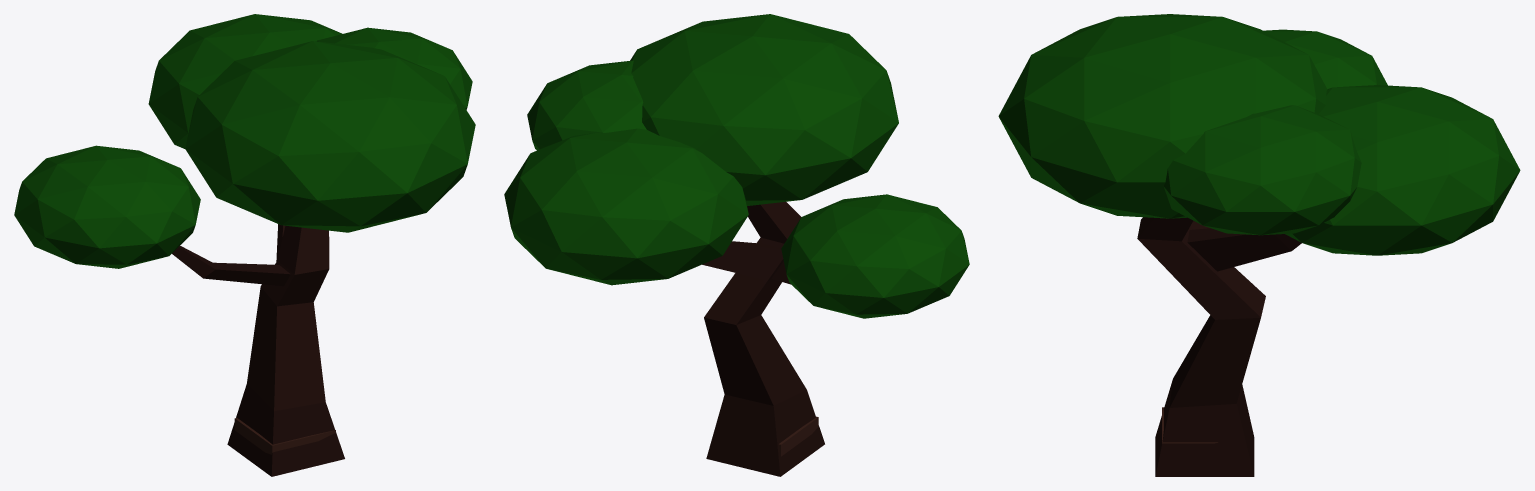
3 views of the same model, side by side, from view 1: azimuth 30°, elevation 25°; view 2: azimuth 150°, elevation 25°; view 3: azimuth 270°, elevation 25° (orthographic). The views are drawn at different scales.
Parts seen in each view (by area): view 1: tree, base; view 2: tree, base; view 3: tree.
Boxes of the visible parts, x1,y1,x2,y2 form: tree: [14, 14, 475, 476]; base: [234, 418, 335, 454]; tree: [504, 14, 969, 476]; base: [778, 416, 818, 456]; tree: [998, 14, 1520, 476].
Bounding box in the file's own units: 3.71 × 3.33 × 3.6.
